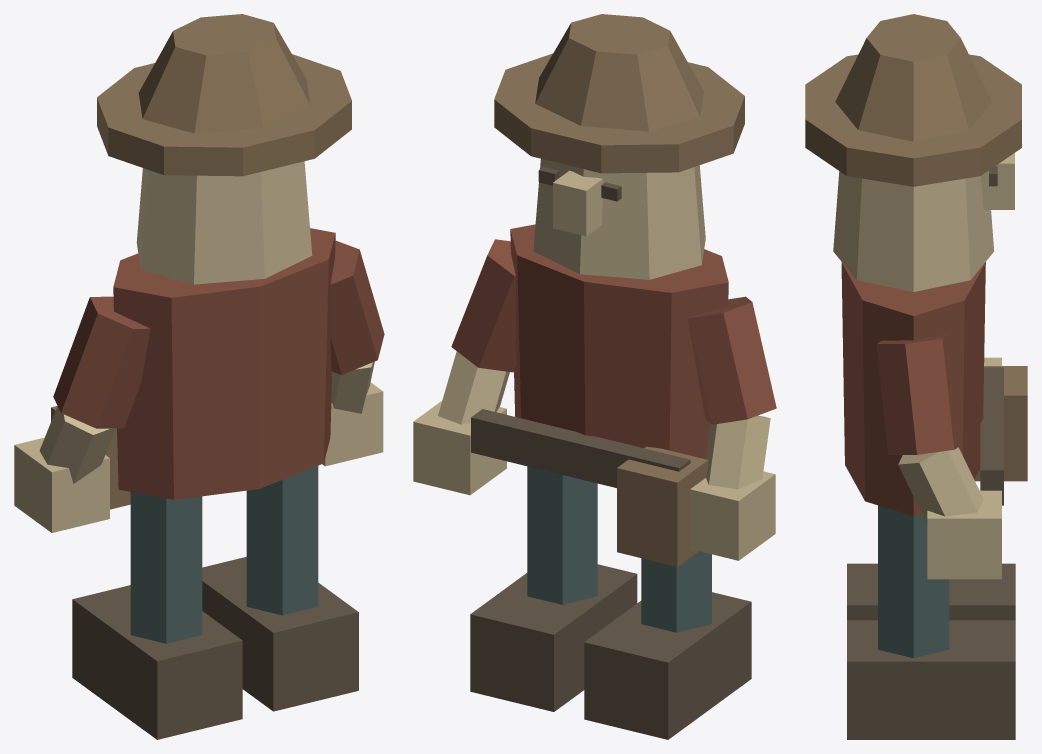
Rendered from NPC_Resident.fbx.
3 renders of one model, left to right at view 1: azimuth 30°, elevation 25°; view 2: azimuth 150°, elevation 25°; view 3: azimuth 270°, elevation 25°, orthographic.
Visible parts, largest first — view 1: NPC_Resident; view 2: NPC_Resident; view 3: NPC_Resident.
Part boxes in pixels (<box>): NPC_Resident: <box>14,14,384,739</box>; NPC_Resident: <box>413,14,776,739</box>; NPC_Resident: <box>805,14,1027,739</box>.
Size of the model in its own units: 0.97 by 1.84 by 0.5658.
